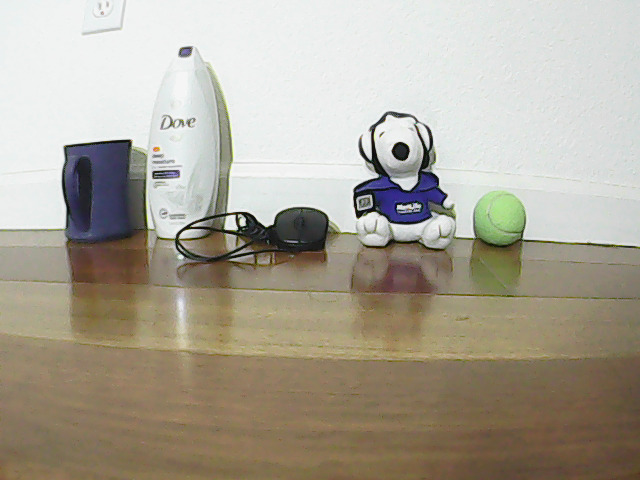ball: (471, 186, 539, 251)
mouse: (270, 192, 330, 254)
mug: (49, 122, 132, 244)
snoopy: (349, 104, 457, 252)
soap: (157, 40, 221, 236)
